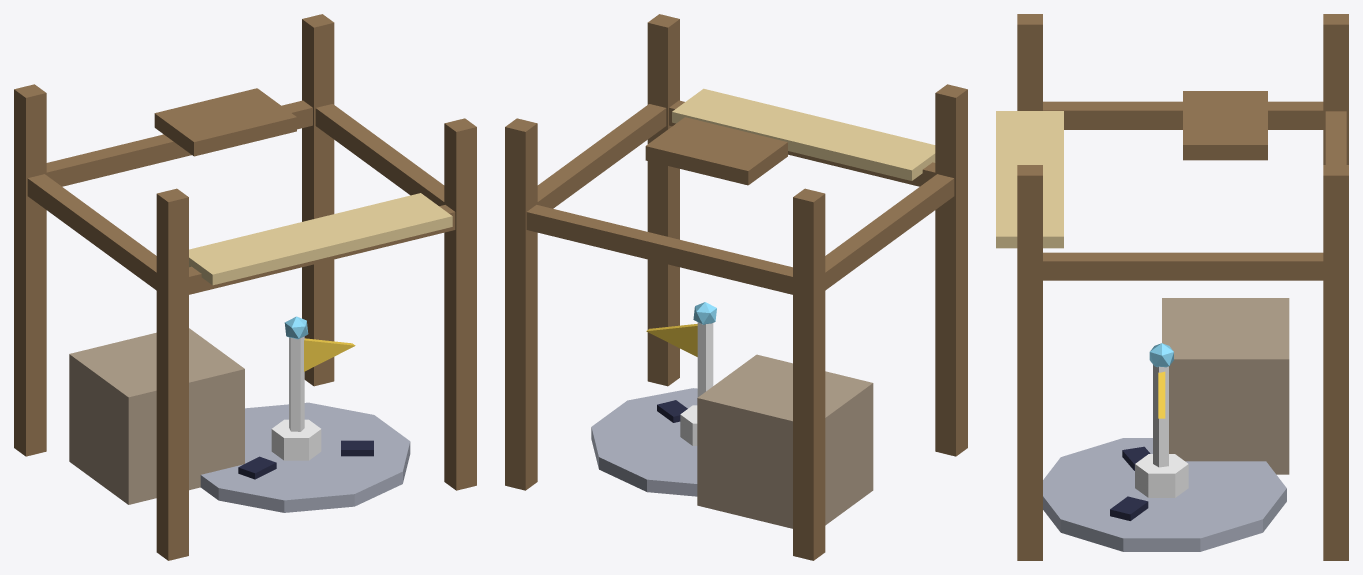
File: space-scaffold.glb
3 renders of one model, left to right at view 1: azimuth 30°, elevation 25°; view 2: azimuth 150°, elevation 25°; view 3: azimuth 270°, elevation 25°, orthographic. The views are drawn at different scales.
Parts seen in each view (by area): view 1: space-scaffold; view 2: space-scaffold; view 3: space-scaffold.
Part boxes in pixels (box(x1,y1,x2,y2)): space-scaffold: box(14, 14, 476, 560); space-scaffold: box(505, 14, 967, 560); space-scaffold: box(996, 14, 1348, 560).
Bounding box in the file's own units: 0.9 × 1 × 0.83.
